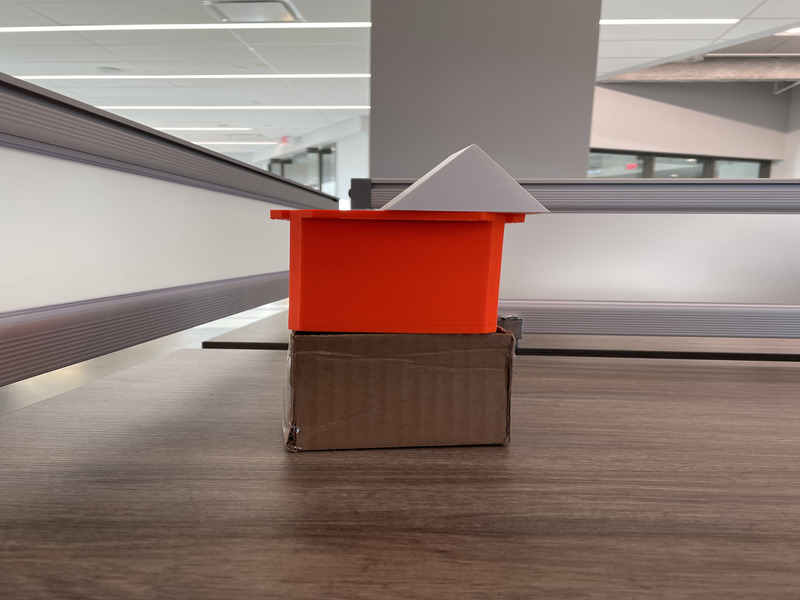payload1: (265, 206, 537, 339)
payload2: (377, 140, 555, 223)
payload3: (276, 315, 521, 455)
